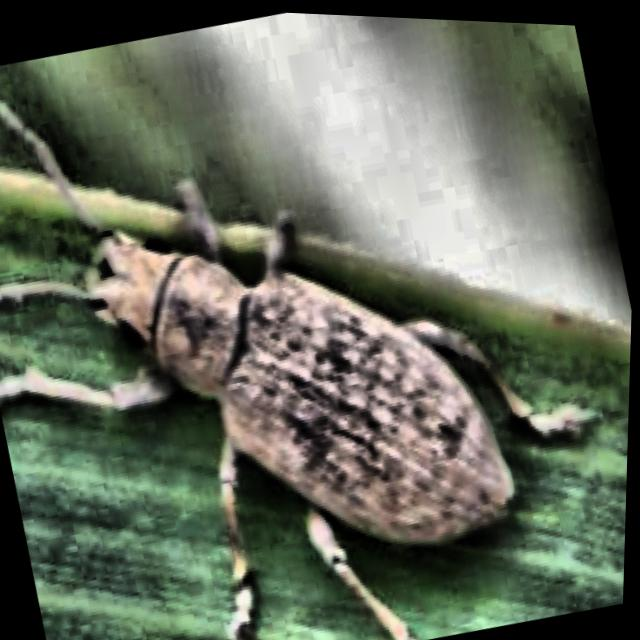Stink bug: (0, 0, 587, 640)
